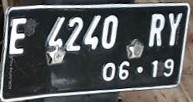plate: (5, 5, 187, 90)
